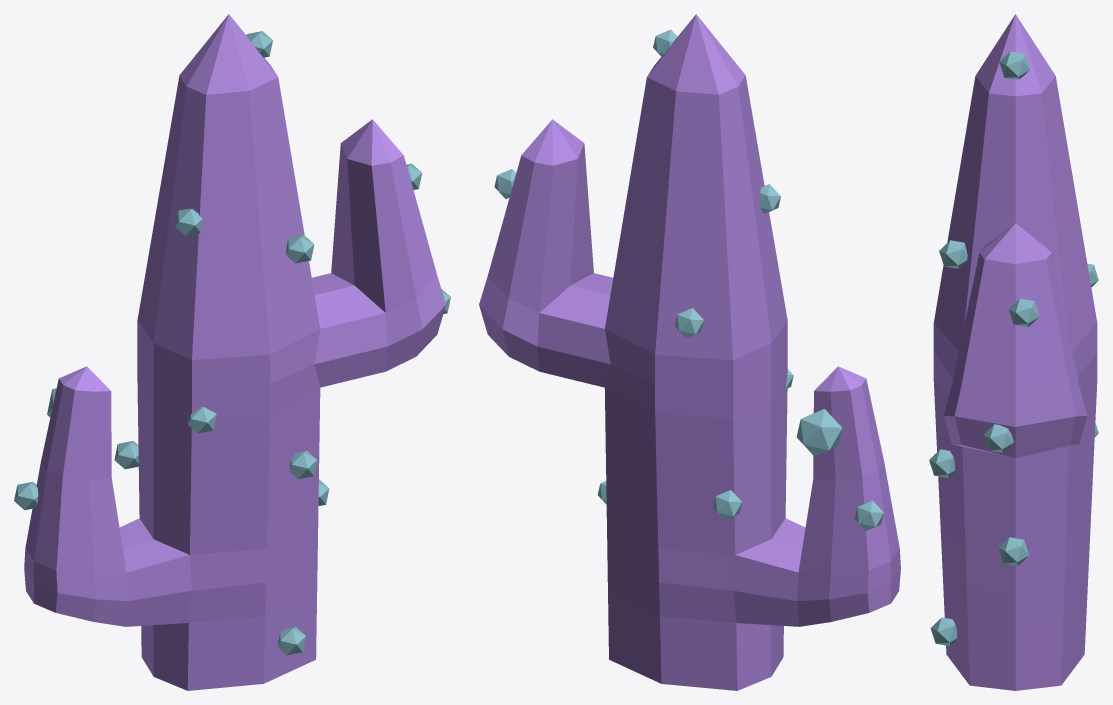
The model's file is 01_01Cactus_Blue.fbx.
The picture shows the model from 3 angles, left to right: view 1: azimuth 30°, elevation 25°; view 2: azimuth 150°, elevation 25°; view 3: azimuth 270°, elevation 25°; orthographic projection.
Parts seen in each view (by area): view 1: Cube.014; view 2: Cube.014; view 3: Cube.014.
Part boxes in pixels (box(x1,y1,x2,y2)): Cube.014: box(14, 14, 450, 690); Cube.014: box(479, 14, 900, 690); Cube.014: box(929, 14, 1098, 690).
Size of the model in its own units: 93.75 by 141 by 33.78.
